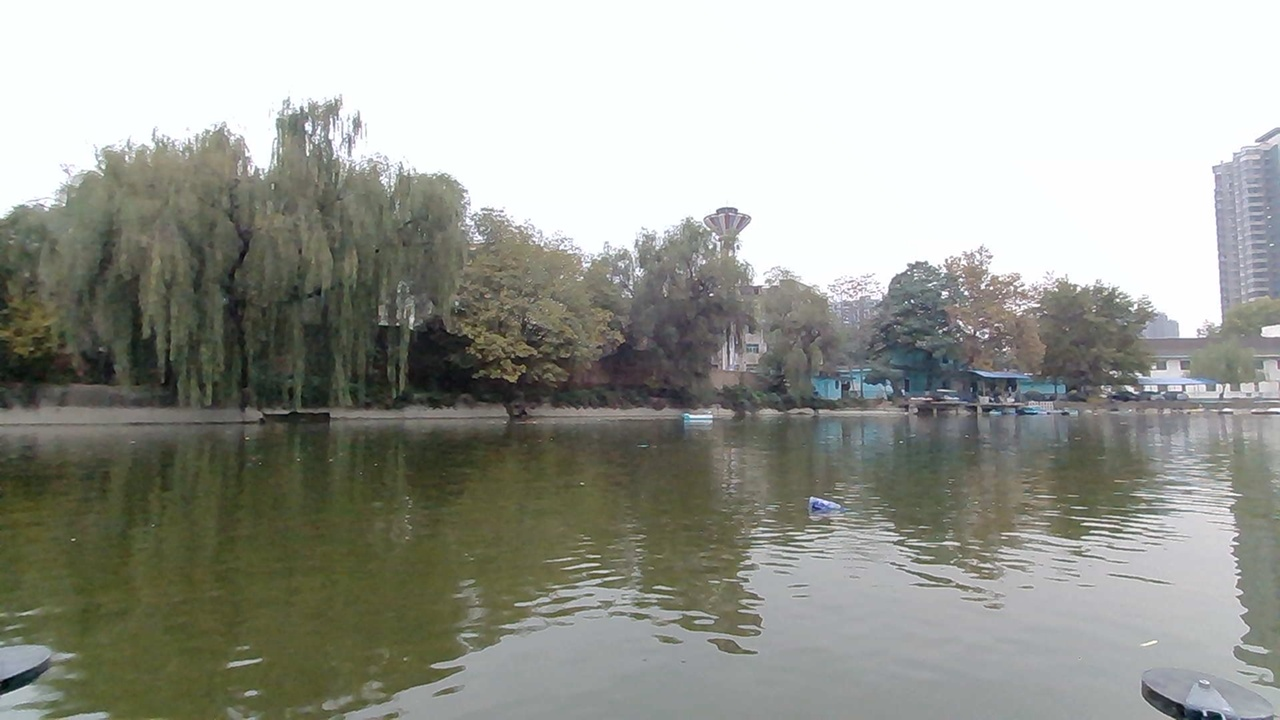bottle: (805, 490, 850, 524)
